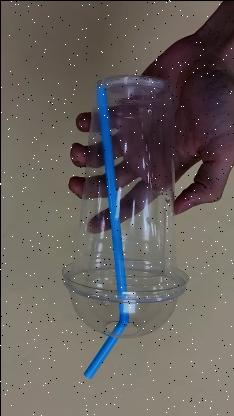Others: (61, 72, 187, 358)
